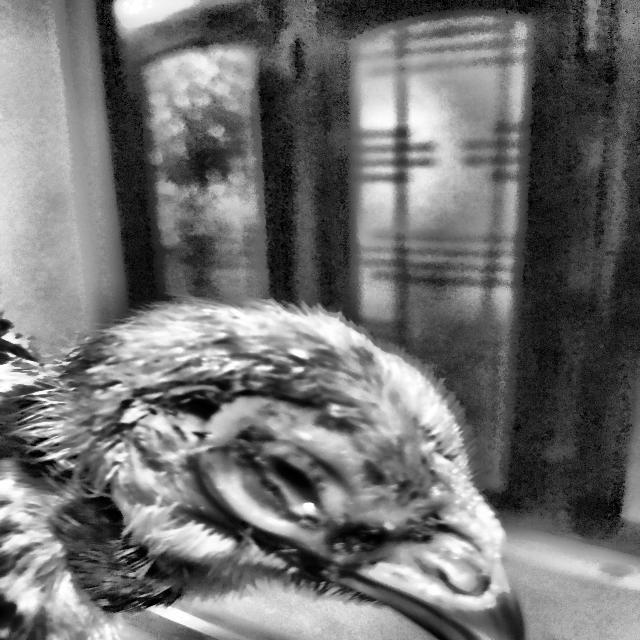Coryza: (55, 300, 620, 640)
